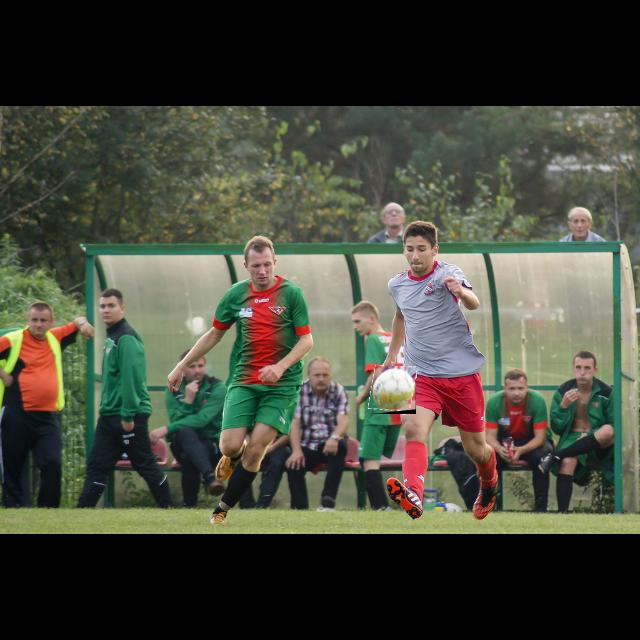Football: (370, 366, 416, 414)
